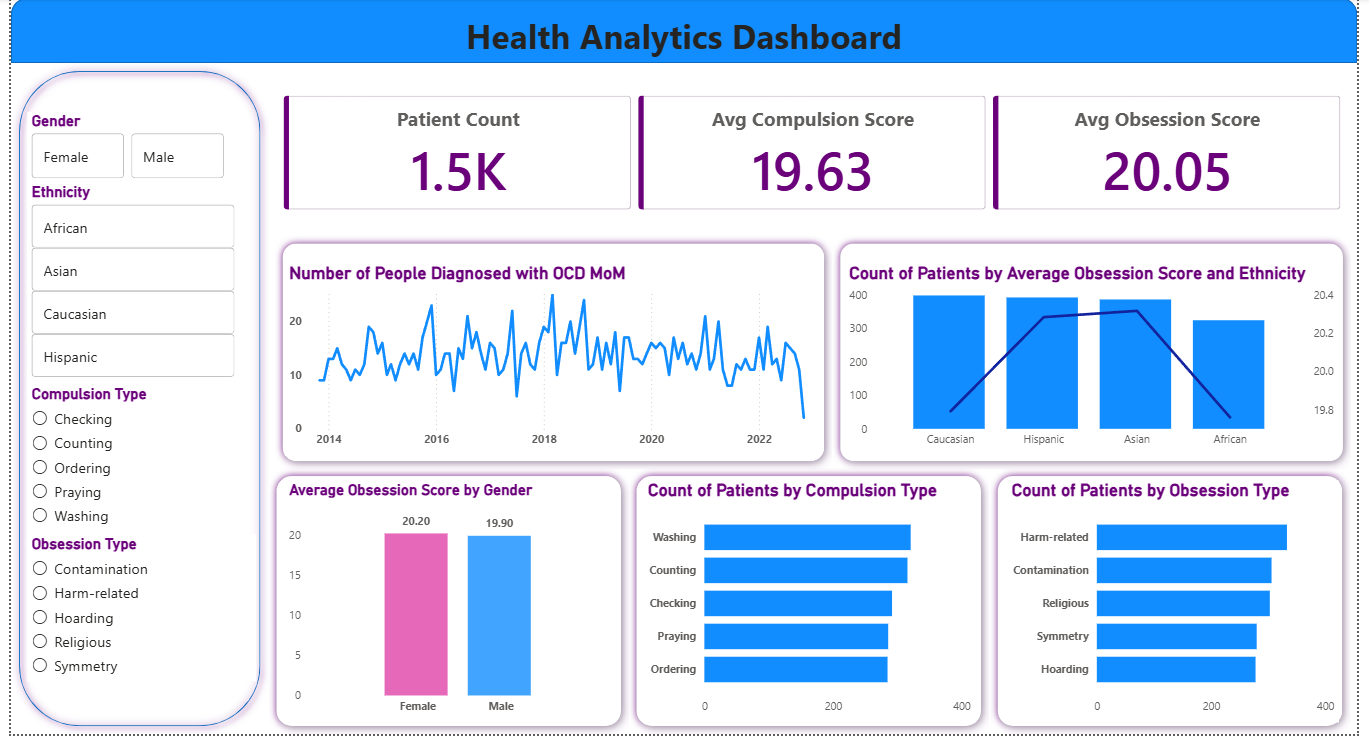

What the dashboard file says about the page in this screenshot:
{"tool":"powerbi","page":{"name":"Page 1","canvas":[1500,820],"ordinal":0},"visuals":[{"type":"cardVisual","fields":{"Data":["health.patient count","health.avg compulsion score","health.avg obsession score"]},"box":[286.9,91.9,1213,161.5],"z":0},{"type":"shape","box":[0,0,1499.9,72.4],"z":1000},{"type":"textbox","box":[0,12.5,1499.9,59.9],"z":2000},{"type":"shape","box":[293.9,264.6,621.1,260.4],"z":3000},{"type":"lineChart","title":"Number of People Diagnosed with OCD MoM","fields":{"Y":["Sum(diagnosis_MOM.patient_count)"],"Category":["diagnosis_MOM.month_start"]},"box":[305,295.2,597.5,214.5],"z":4000},{"type":"shape","box":[915,264.6,578,260.4],"z":5000},{"type":"shape","box":[1090.1,524,401.8,296.4],"z":6000},{"type":"shape","box":[688.3,524,401.8,296.4],"z":7000},{"type":"shape","box":[286.6,524,401.8,296.4],"z":8000},{"type":"columnChart","title":"Average Obsession Score  by Gender","fields":{"Category":["health.gender"],"Y":["Avg(health.y-bocs_score_(obsessions))"]},"box":[304.8,538,366.6,269.7],"z":9000},{"type":"lineClusteredColumnComboChart","title":"Count of Patients by Average Obsession Score and Ethnicity","fields":{"Category":["health.ethnicity"],"Y":["CountNonNull(health.patient_id)"],"Y2":["Avg(health.y-bocs_score_(obsessions))"]},"box":[928.5,295,550.7,214.9],"z":10000},{"type":"clusteredBarChart","title":"Count of Patients by Obsession Type","fields":{"Category":["health.obsession_type"],"Y":["CountNonNull(health.patient_id)"]},"box":[1109.8,538,369.5,269.7],"z":11000},{"type":"clusteredBarChart","title":"Count of Patients by Compulsion Type","fields":{"Category":["health.compulsion_type"],"Y":["CountNonNull(health.patient_id)"]},"box":[705.2,538,369.5,269.7],"z":12000},{"type":"shape","box":[0,72.4,286.9,747.9],"z":13000},{"type":"advancedSlicerVisual","title":"Gender","fields":{"Values":["health.gender"]},"box":[18.1,126.7,224.2,79.4],"z":14000},{"type":"advancedSlicerVisual","title":"Ethnicity","fields":{"Values":["health.ethnicity"]},"box":[18.1,206.1,236.8,224.2],"z":15000},{"type":"listSlicer","title":"Compulsion Type","fields":{"Values":["health.compulsion_type"]},"box":[18.1,430.3,236.8,167.1],"z":16000},{"type":"listSlicer","title":"Obsession Type","fields":{"Values":["health.obsession_type"]},"box":[18.1,597.5,254.9,164.3],"z":17000}]}

Visuals, with their boxes in screenshot pixels (x1, y1, x2, y2), scaled from the page's 1500x820 canvas onto the 1369x739 screenshot:
cardVisual - health.patient count x health.avg compulsion score: Rect(262, 83, 1368, 228)
shape: Rect(0, 0, 1368, 65)
textbox: Rect(0, 11, 1368, 65)
shape: Rect(268, 238, 835, 473)
"Number of People Diagnosed with OCD MoM" lineChart: Rect(278, 266, 824, 459)
shape: Rect(835, 238, 1363, 473)
shape: Rect(995, 472, 1362, 738)
shape: Rect(628, 472, 995, 738)
shape: Rect(262, 472, 628, 738)
"Average Obsession Score  by Gender" columnChart: Rect(278, 485, 613, 728)
"Count of Patients by Average Obsession Score and Ethnicity" lineClusteredColumnComboChart: Rect(847, 266, 1350, 460)
"Count of Patients by Obsession Type" clusteredBarChart: Rect(1013, 485, 1350, 728)
"Count of Patients by Compulsion Type" clusteredBarChart: Rect(644, 485, 981, 728)
shape: Rect(0, 65, 262, 738)
"Gender" advancedSlicerVisual: Rect(17, 114, 221, 186)
"Ethnicity" advancedSlicerVisual: Rect(17, 186, 233, 388)
"Compulsion Type" listSlicer: Rect(17, 388, 233, 538)
"Obsession Type" listSlicer: Rect(17, 538, 249, 687)
